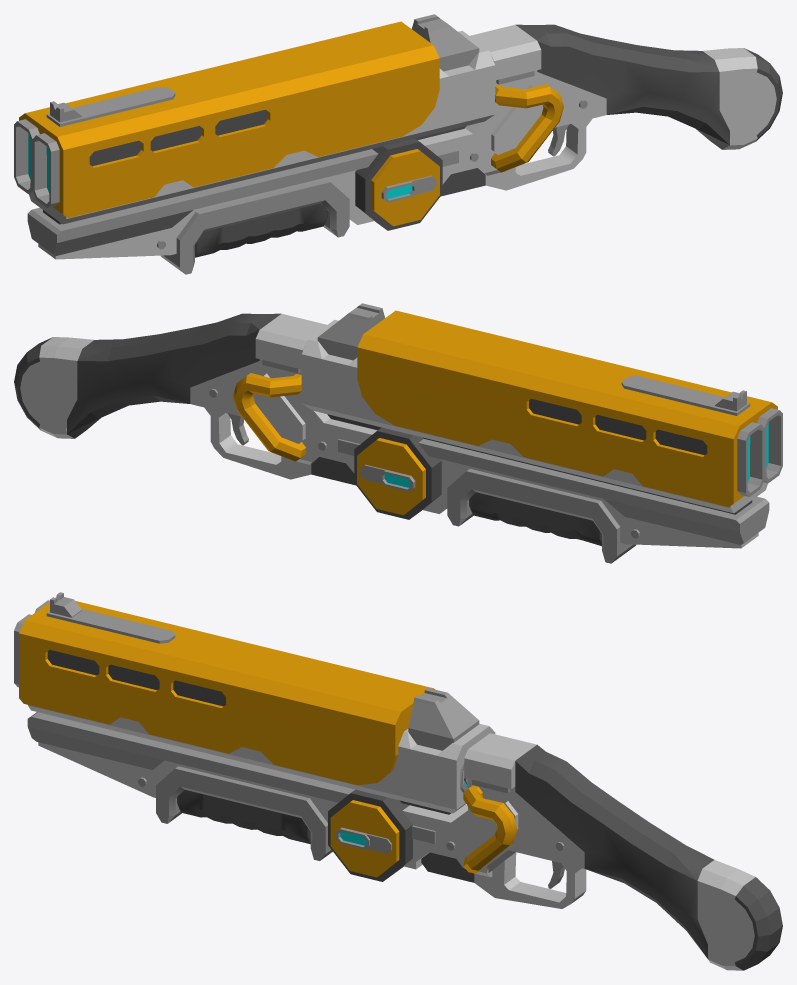
The picture shows the model from 3 angles, top to bottom: view 1: azimuth 30°, elevation 25°; view 2: azimuth 150°, elevation 25°; view 3: azimuth 330°, elevation 25°; orthographic projection.
Visible parts, largest first — view 1: SM_SG02_Barrel, SM_SG02; view 2: SM_SG02_Barrel, SM_SG02; view 3: SM_SG02_Barrel, SM_SG02.
Boxes of the visible parts, bbox=[...] form: SM_SG02_Barrel: bbox=[14, 14, 495, 274]; SM_SG02: bbox=[355, 24, 782, 230]; SM_SG02_Barrel: bbox=[301, 303, 782, 563]; SM_SG02: bbox=[14, 313, 441, 519]; SM_SG02_Barrel: bbox=[14, 592, 495, 860]; SM_SG02: bbox=[328, 733, 782, 970].
Bounding box in the file's own units: 50.84 × 13.34 × 6.7.
